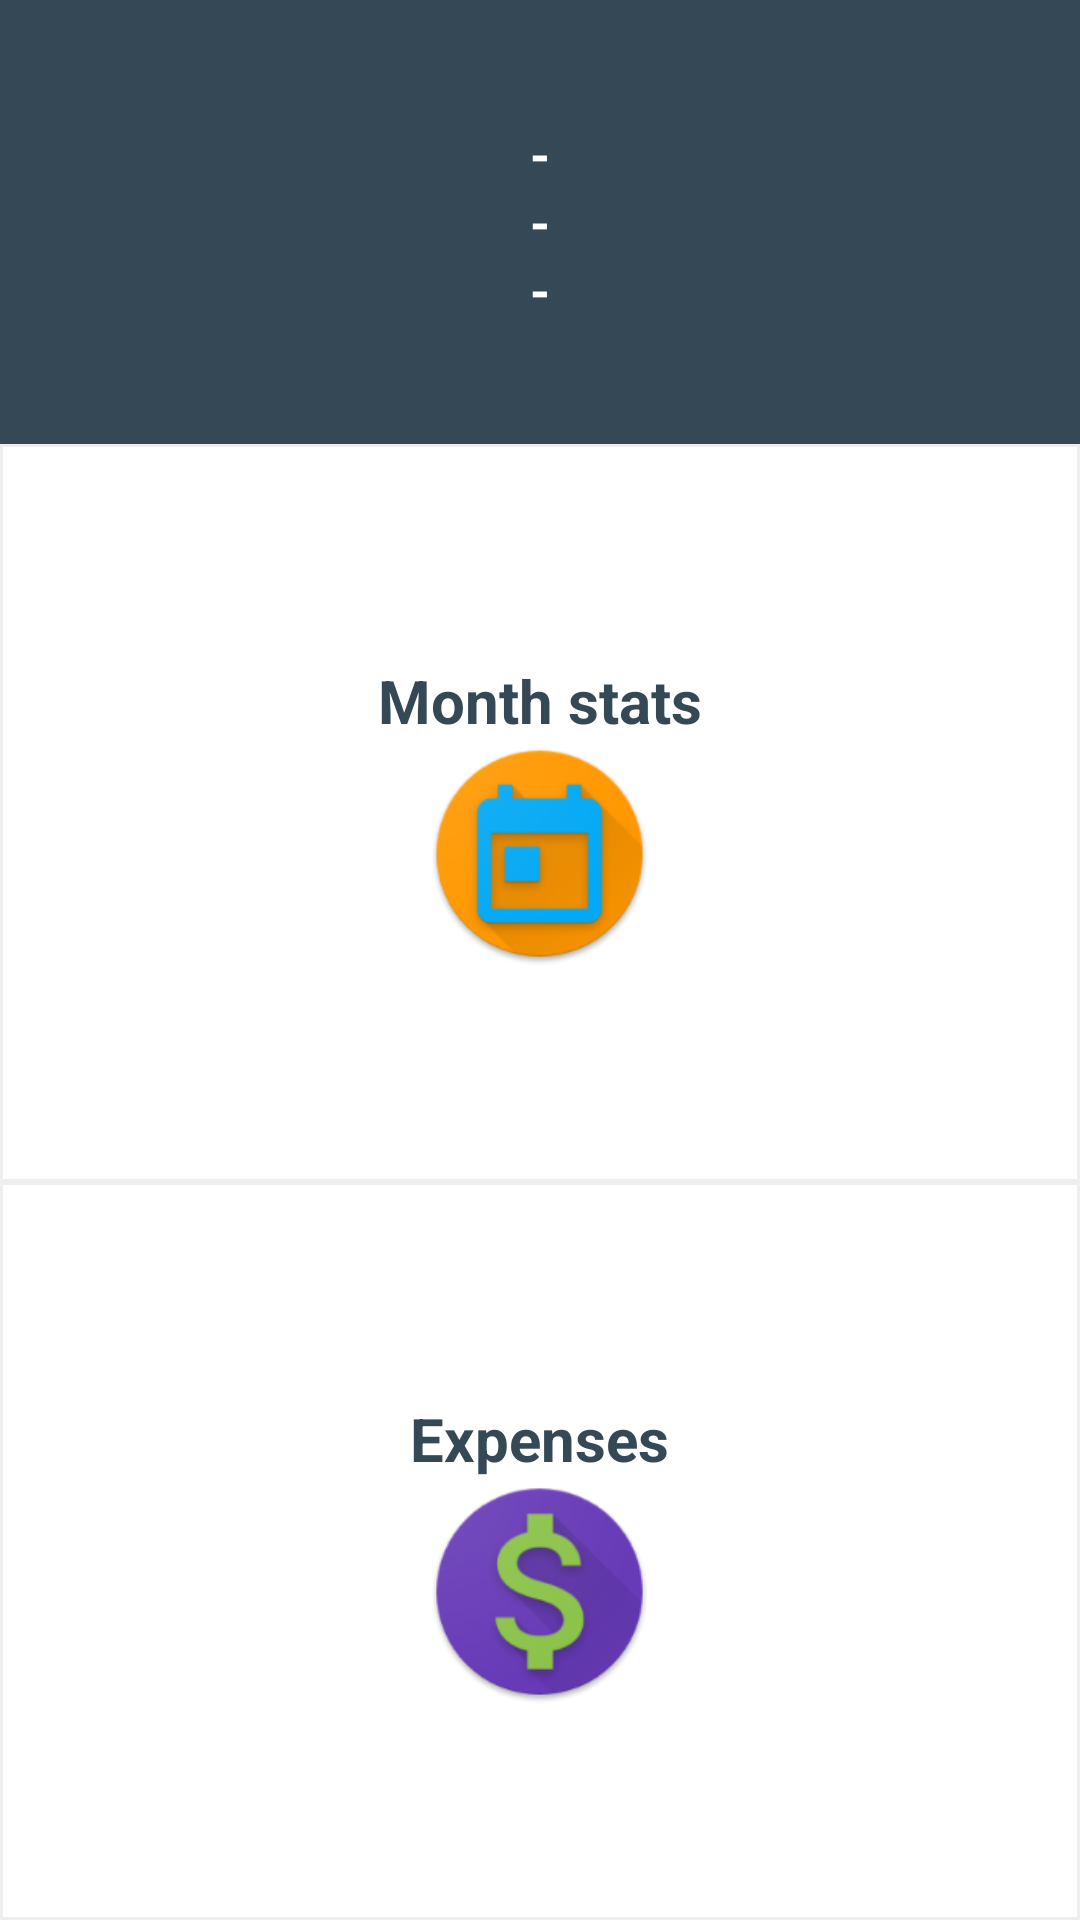

Locate icon controls on the screen. Image size 1080*1920, boxes as (x1, y1, x2, y2).
money stats: (435, 1488, 644, 1699)
